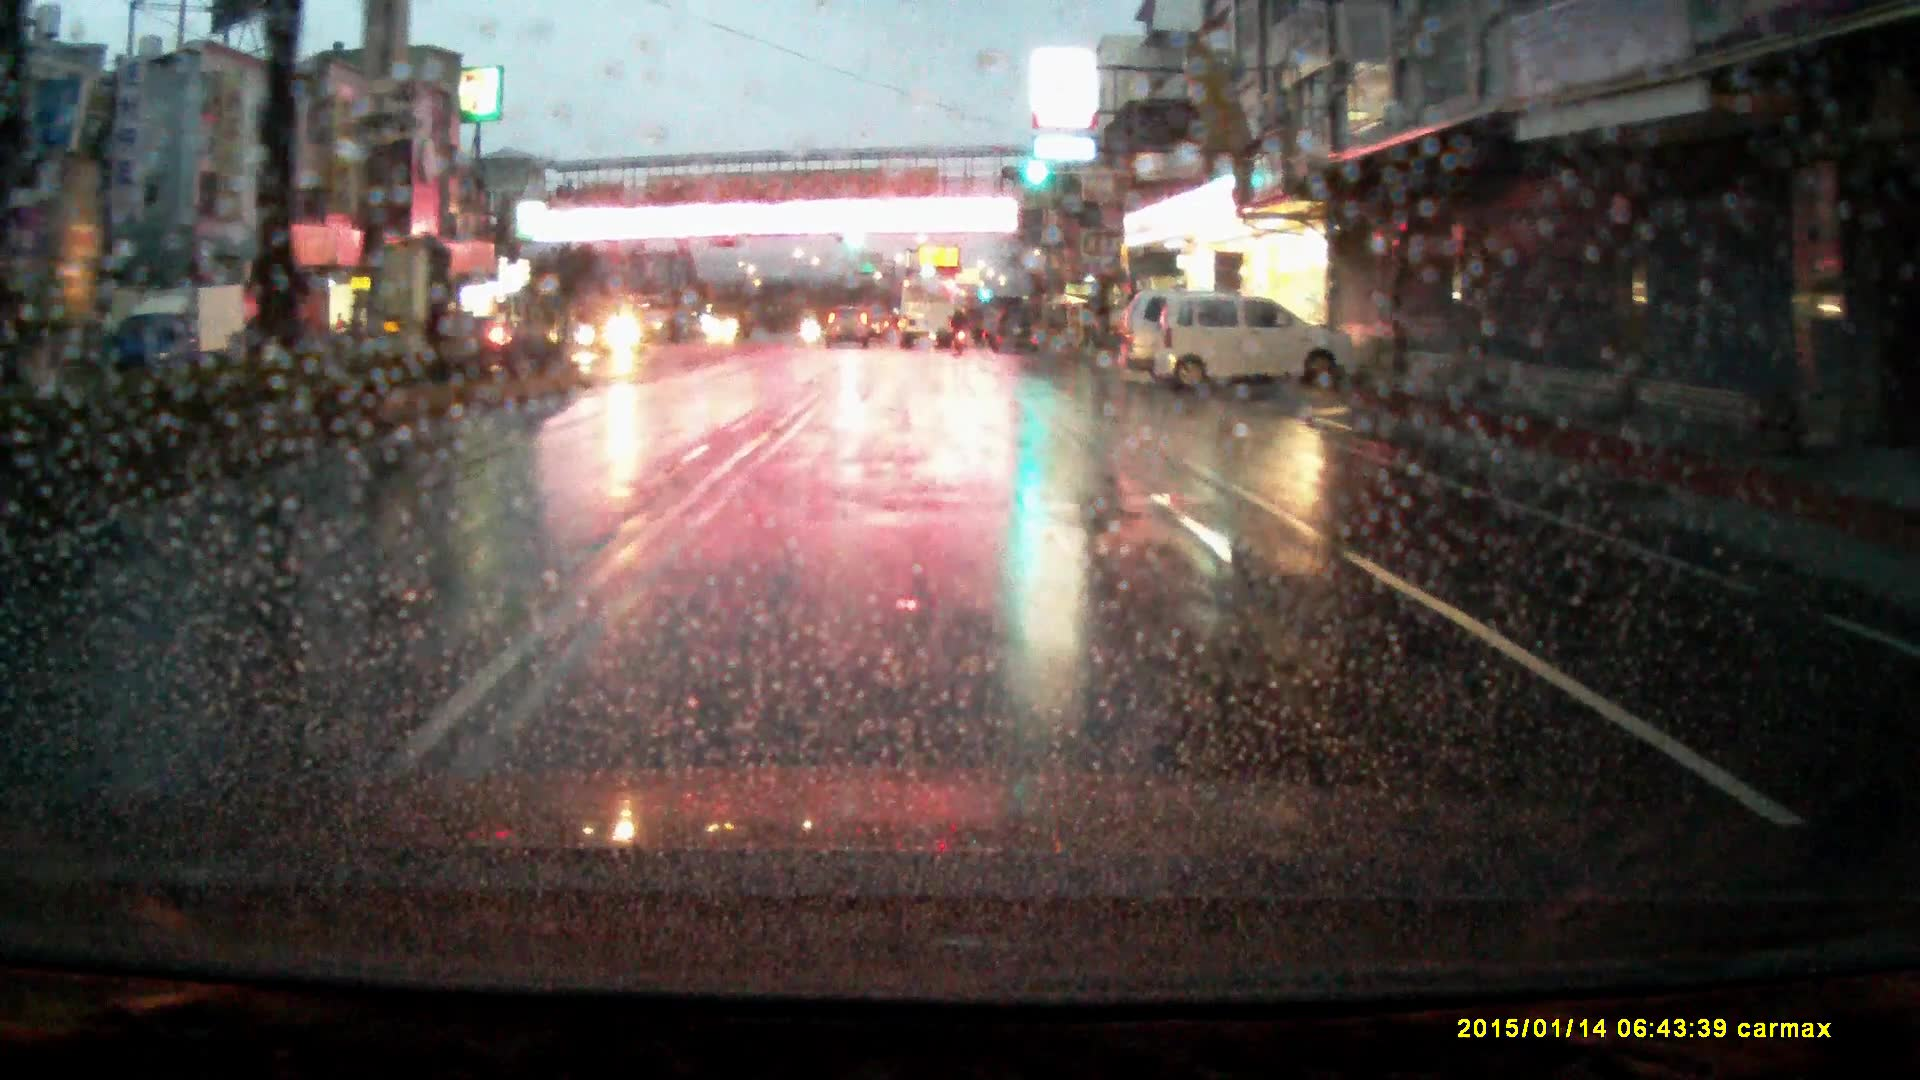rider: (951, 303, 971, 353)
vehicle: (1153, 289, 1358, 394), (118, 281, 256, 371), (1117, 288, 1243, 380), (575, 292, 661, 352), (900, 277, 953, 346), (989, 301, 1040, 352), (826, 302, 870, 346)
